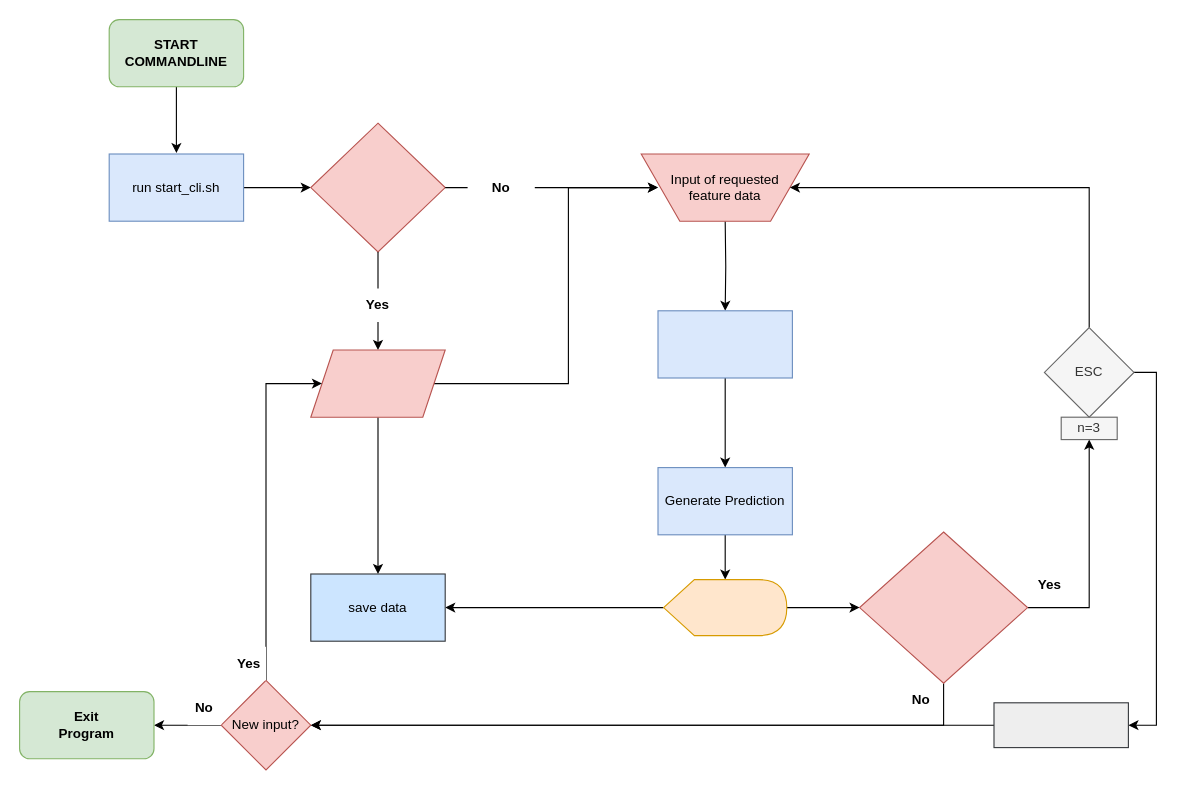
Some shapes in this 1185 by 790 pixel diagram are drawn without their labels. The shapes that lost their labels are listed below. From the top down, each one's box as (x1, y1, x2, y2) in pixels, then its label:
(310, 122, 445, 252): Permission to store user data?
(657, 310, 792, 378): Calculate BMI
(310, 349, 445, 417): Input name + patient number
(662, 578, 787, 636): display result
(858, 531, 1028, 683): do you want to see different lifestyle predictions?
(993, 702, 1128, 748): Max Predictions Reached
